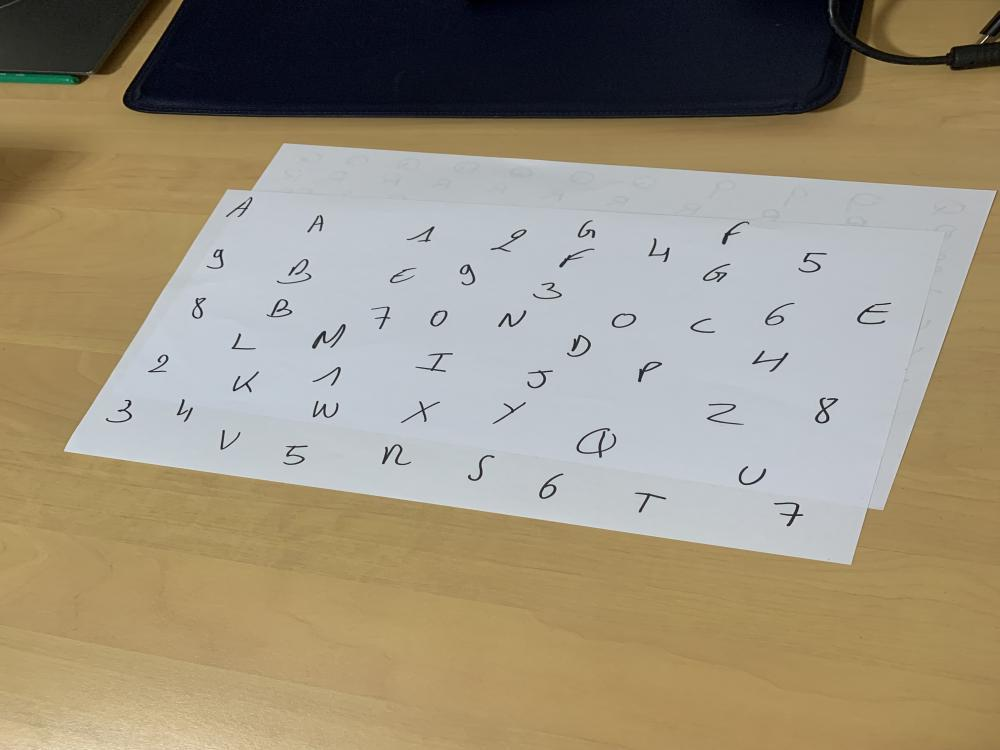0: (608, 310, 642, 334), (426, 308, 452, 326)
1: (306, 366, 351, 391), (402, 223, 438, 243)
2: (489, 228, 528, 253), (140, 352, 176, 376)
3: (99, 398, 145, 428), (531, 280, 567, 302)
4: (646, 236, 672, 264), (174, 396, 196, 426)
5: (797, 249, 829, 275), (279, 442, 309, 469)
6: (763, 300, 797, 328), (538, 472, 570, 500)
7: (768, 500, 810, 529), (368, 304, 398, 331)
8: (812, 393, 844, 425), (186, 294, 214, 323)
9: (202, 247, 234, 272), (458, 262, 478, 288)
A: (222, 192, 258, 220), (304, 214, 328, 233)
B: (273, 257, 320, 287), (264, 296, 300, 319)
C: (684, 316, 722, 336)
D: (562, 333, 597, 361)
E: (850, 298, 896, 329), (386, 265, 422, 286)
F: (716, 218, 752, 246), (557, 246, 597, 270)
G: (702, 261, 732, 283), (575, 219, 599, 240)
H: (748, 347, 792, 375)
I: (412, 350, 458, 376)
J: (518, 365, 558, 392)
K: (229, 369, 262, 394)
L: (228, 330, 267, 356)
M: (310, 322, 351, 351)
N: (376, 442, 419, 468), (495, 309, 532, 330)
P: (635, 359, 664, 386)
Q: (574, 425, 618, 458)
S: (458, 454, 507, 482)
T: (630, 490, 670, 516)
U: (737, 462, 774, 490)
V: (214, 424, 244, 451)
W: (308, 398, 342, 421)
X: (397, 399, 442, 425)
Y: (486, 400, 535, 427)
Z: (704, 400, 746, 430)
